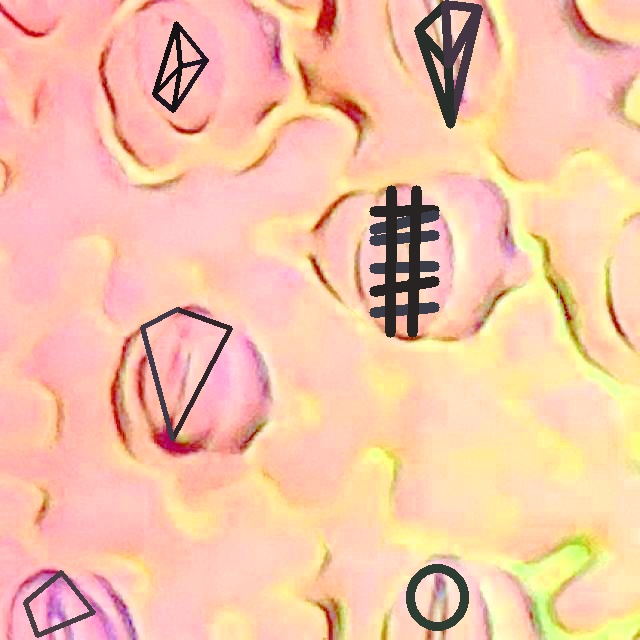close: (369, 186, 438, 337), (152, 21, 208, 112)
open: (140, 307, 232, 441), (415, 0, 481, 127), (23, 570, 95, 637), (406, 562, 469, 631)
